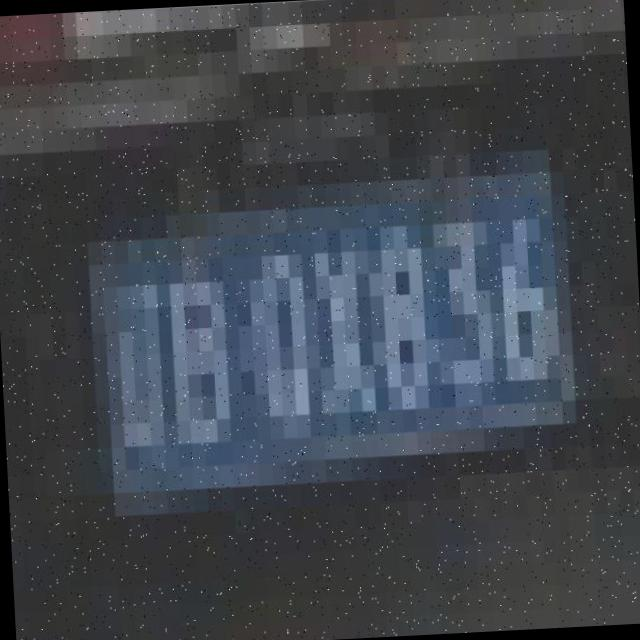LicensePlate: (70, 136, 618, 549)
